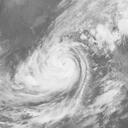cyclone: (29, 40, 82, 94)
